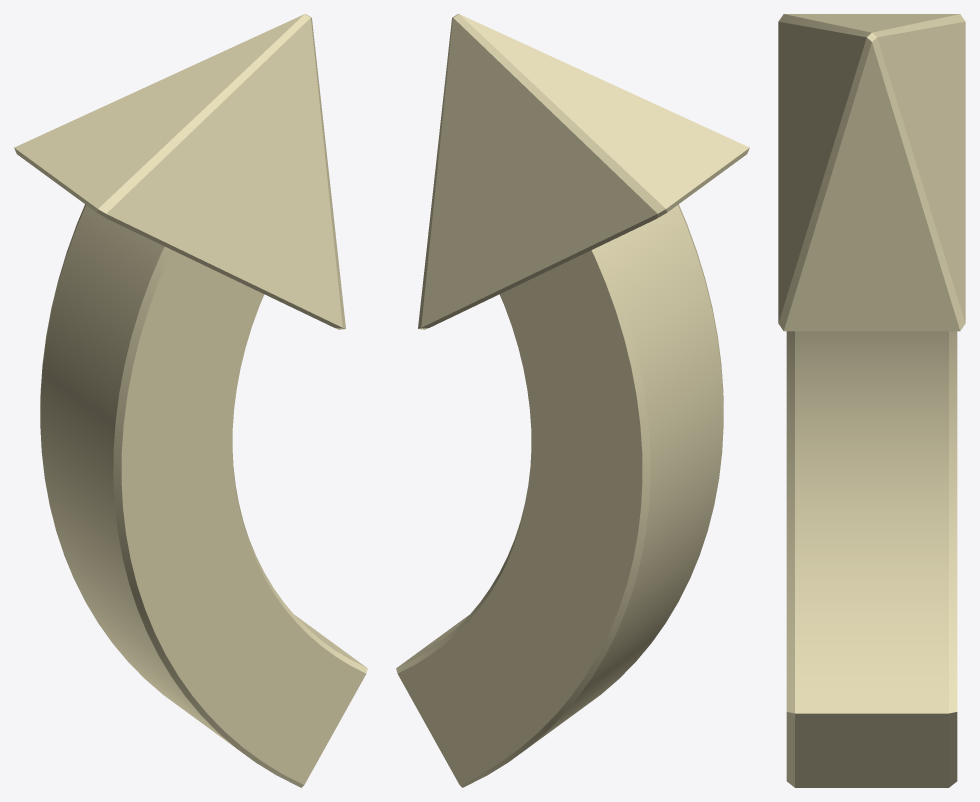
The model's file is TimelineElement_GoTo.dae.
3 renders of one model, left to right at view 1: azimuth 30°, elevation 25°; view 2: azimuth 150°, elevation 25°; view 3: azimuth 270°, elevation 25°, orthographic. The views are drawn at different scales.
Visible parts, largest first — view 1: Arc003; view 2: Arc003; view 3: Arc003.
Boxes of the visible parts, x1,y1,x2,y2 form: Arc003: (14,14,367,787); Arc003: (396,14,749,787); Arc003: (778,14,965,787).
Size of the model in its own units: 0.3414 by 0.1909 by 0.8737.
